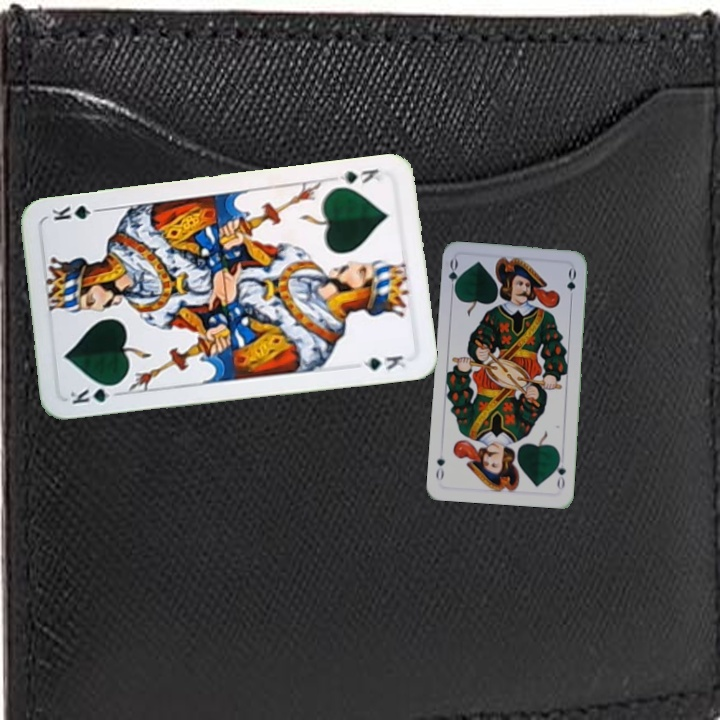GK: (66, 380, 124, 407), (330, 165, 389, 186)
GO: (444, 255, 463, 296), (551, 452, 568, 492)
